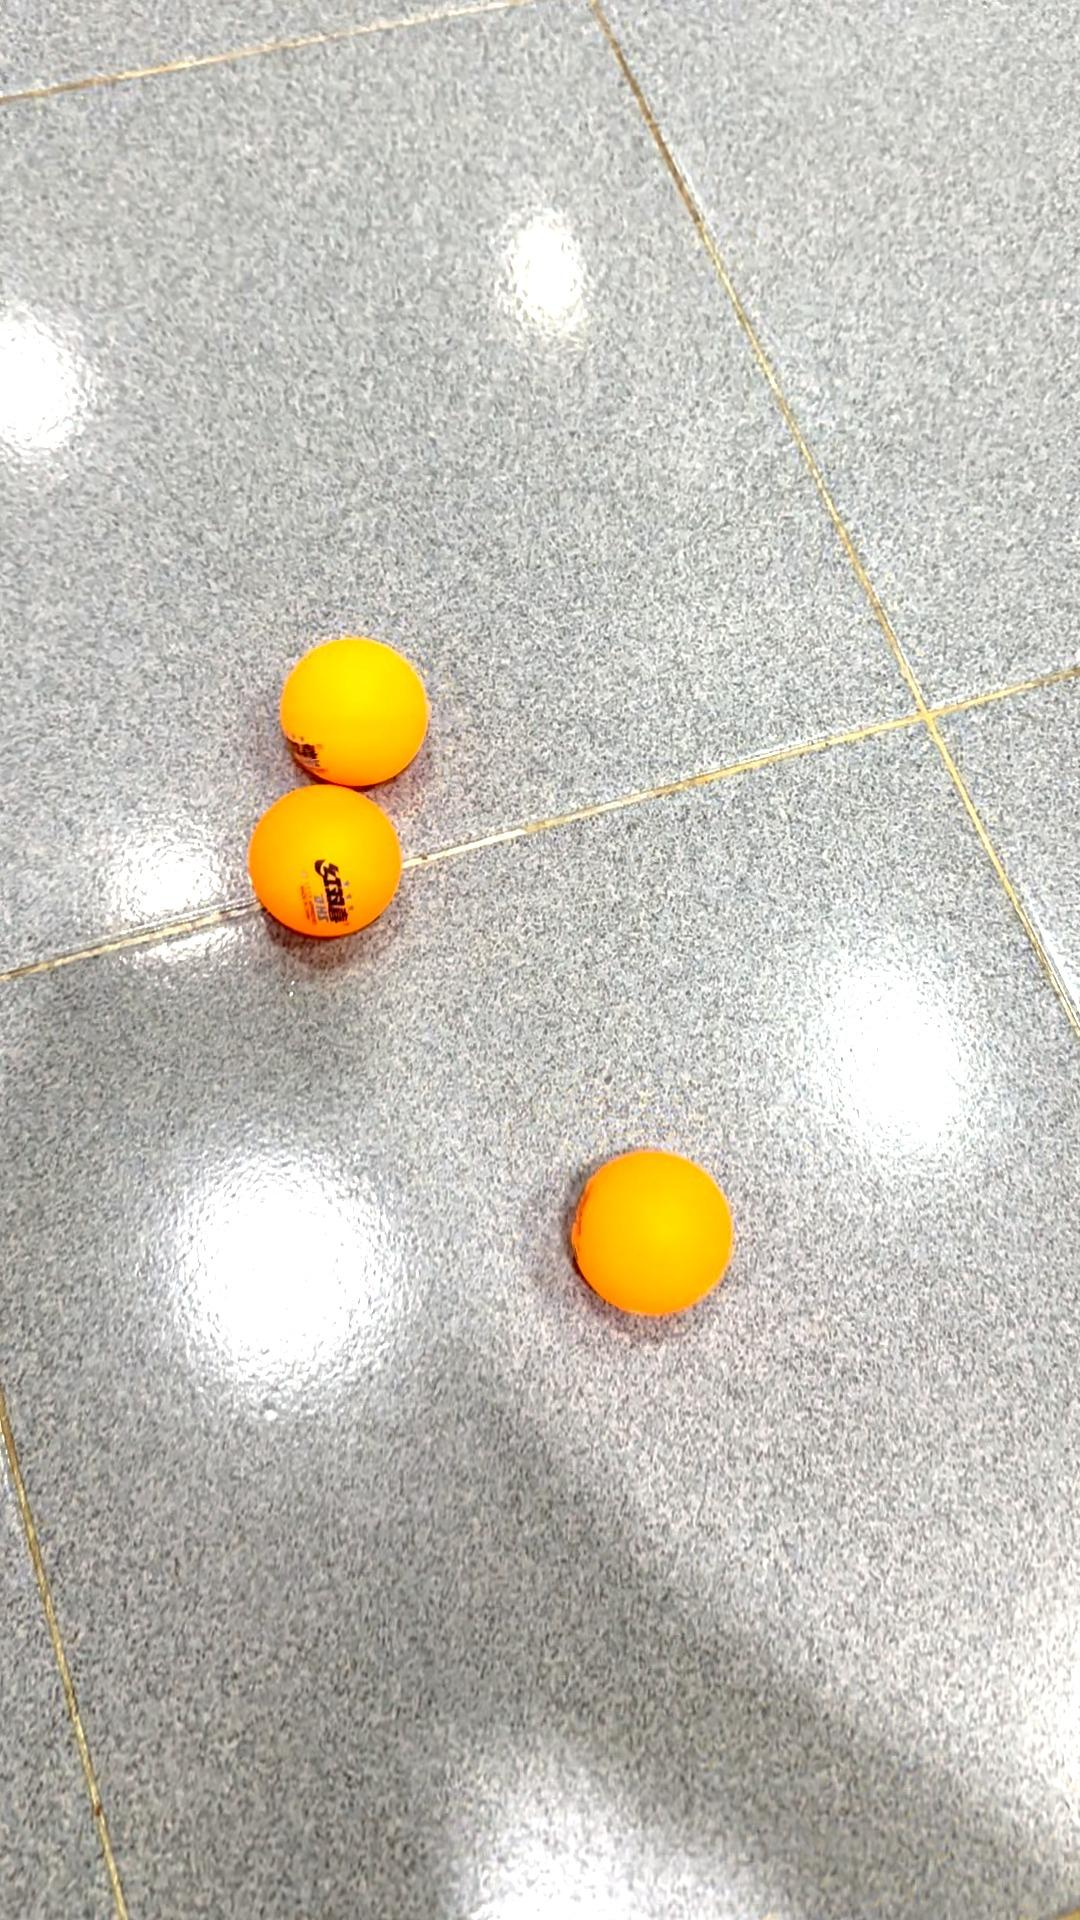oball: (558, 1138, 757, 1344), (241, 785, 433, 955), (278, 628, 444, 795)
